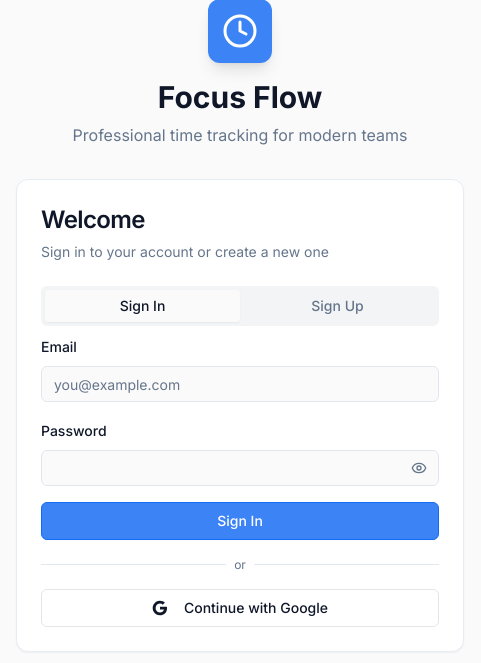
Login Page › Registration Form › should show password mismatch indicator while typing
Click the tab with test id "tab-signup" at x=338, y=306, box left=240, top=290, right=435, bottom=322
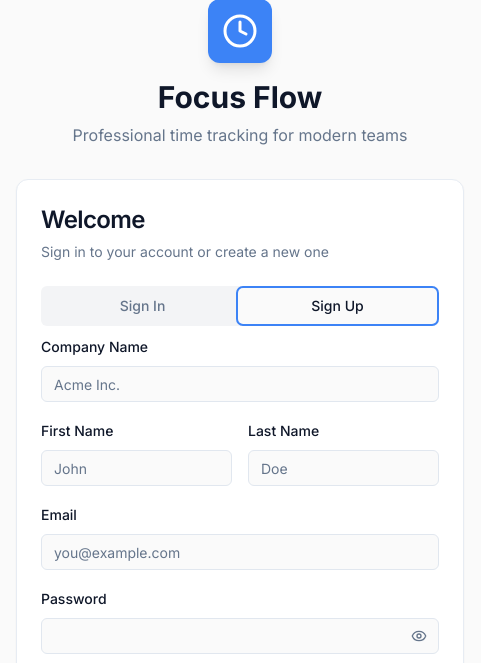
Type "password123" into the password field with test id "input-signup-password" at x=240, y=636, box left=41, top=618, right=439, bottom=654
(page scrolled)
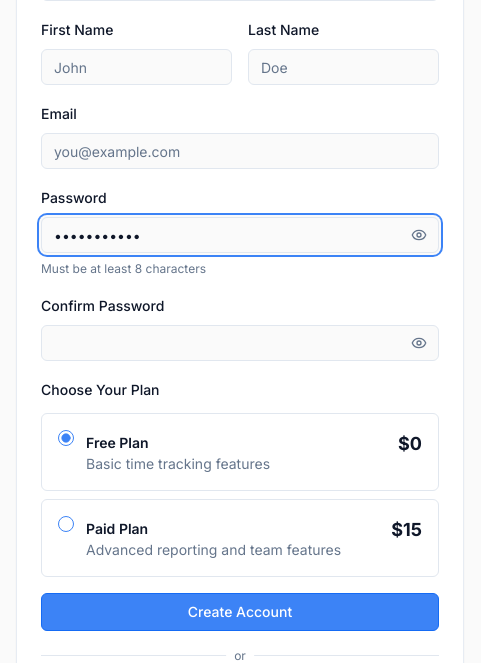
Type "differentpass" into the password field with test id "input-signup-confirm-password" at x=240, y=343, box left=41, top=325, right=439, bottom=361
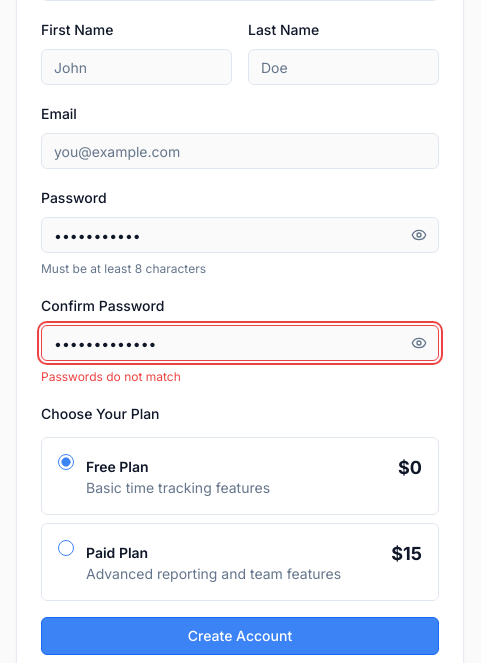
Expected: the text "Passwords do not match" is shown, left=41, top=369, right=181, bottom=384
